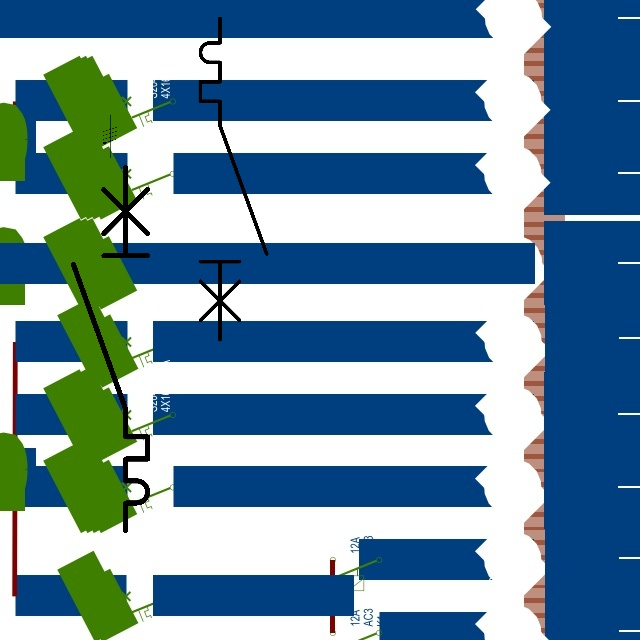interruptor_termomagnetico: (64, 158, 157, 540), (192, 10, 274, 348)
